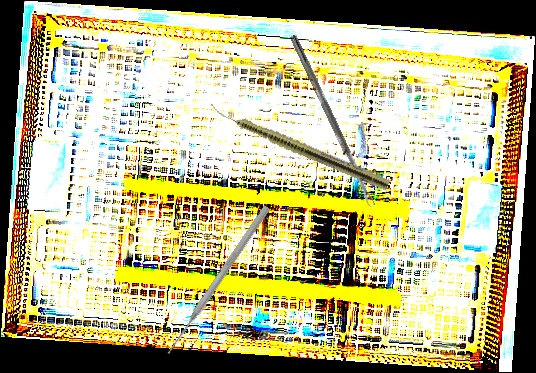Handpiece: (203, 100, 393, 193)
Pusher: (163, 204, 272, 357)
Surgical Spoon: (288, 34, 376, 208)
